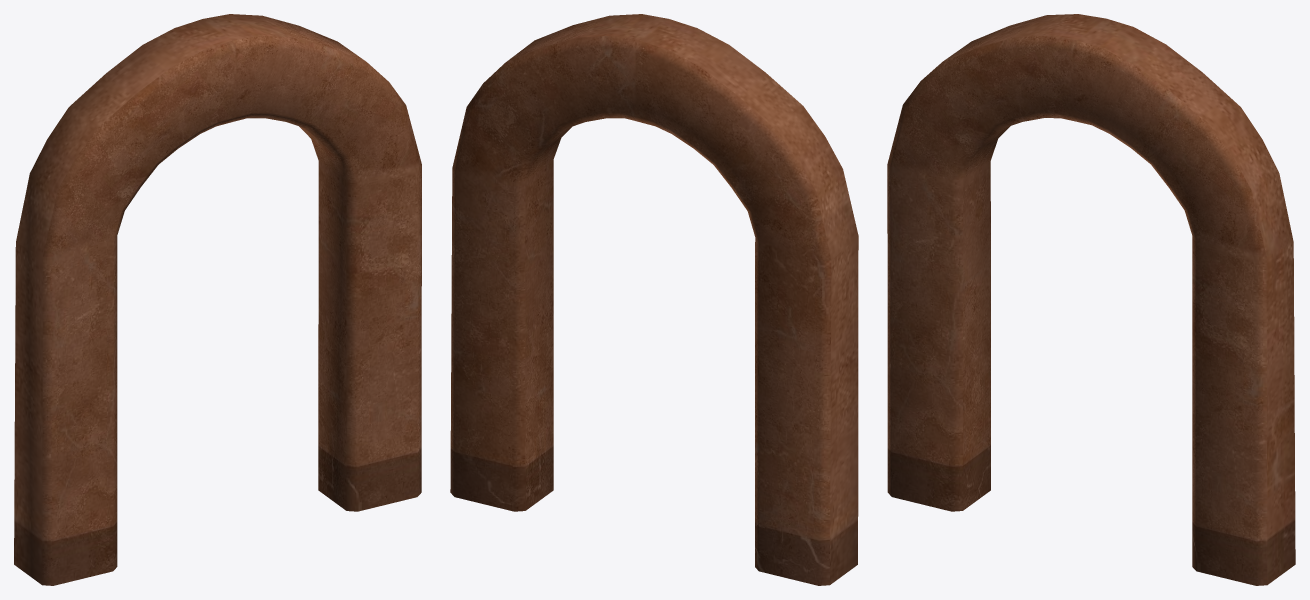
The model's file is arkaOnne.glb.
3 renders of one model, left to right at view 1: azimuth 30°, elevation 25°; view 2: azimuth 150°, elevation 25°; view 3: azimuth 330°, elevation 25°, orthographic.
Visible parts, largest first — view 1: arka_new_version_01; view 2: arka_new_version_01; view 3: arka_new_version_01.
Boxes of the visible parts, bbox=[...] form: arka_new_version_01: bbox=[14, 14, 421, 585]; arka_new_version_01: bbox=[450, 14, 858, 585]; arka_new_version_01: bbox=[887, 14, 1295, 585].
Size of the model in its own units: 1.98 by 2.49 by 0.3342.
1 material, 1 textured.
